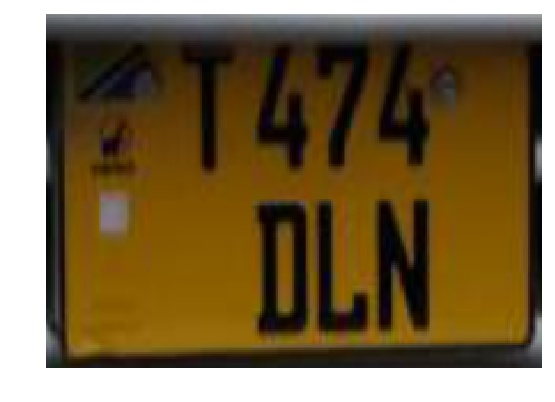T: (172, 42, 248, 179)
